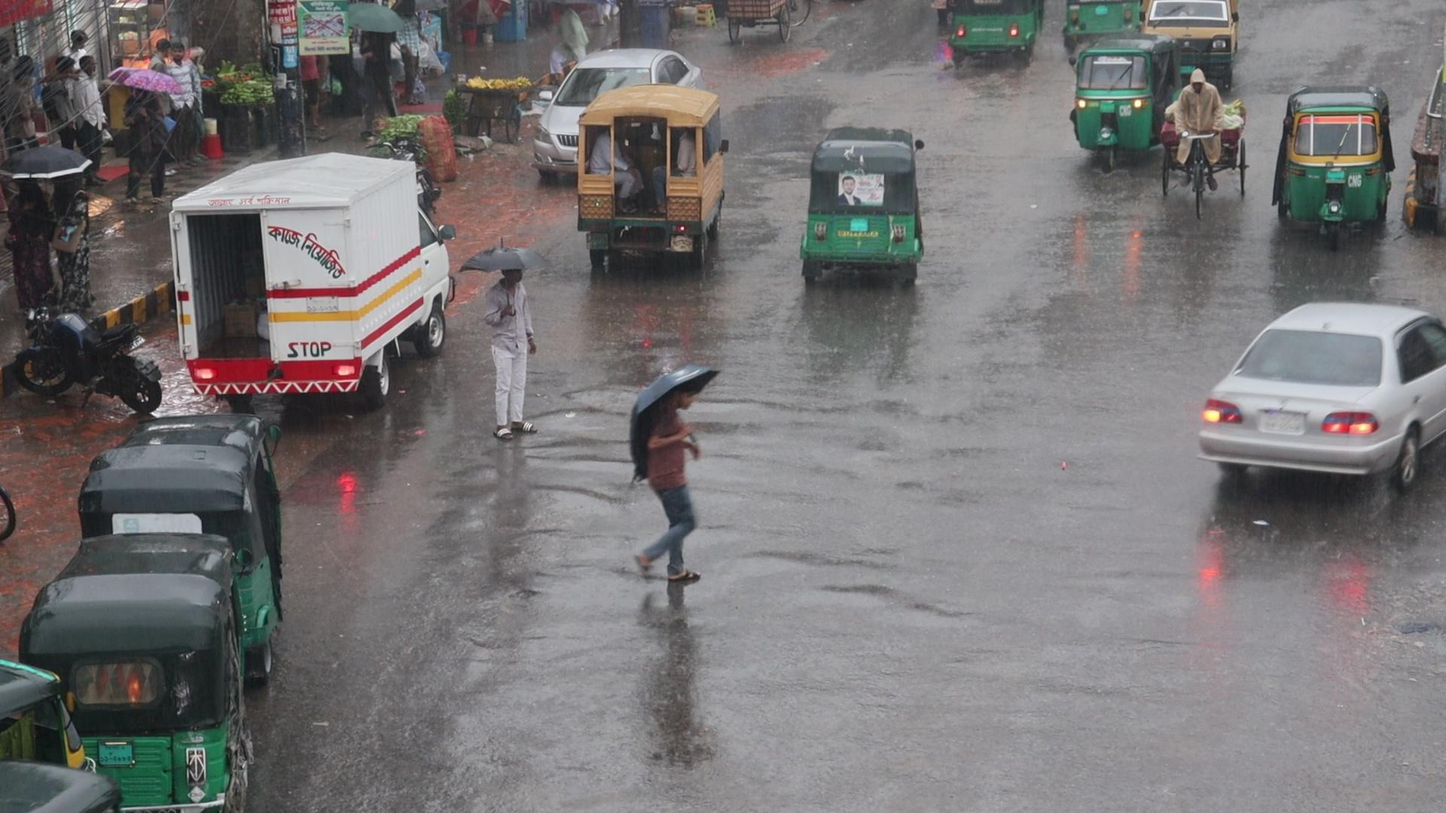Car: (1182, 293, 1446, 505), (524, 45, 712, 184)
Truck: (569, 85, 744, 280)
